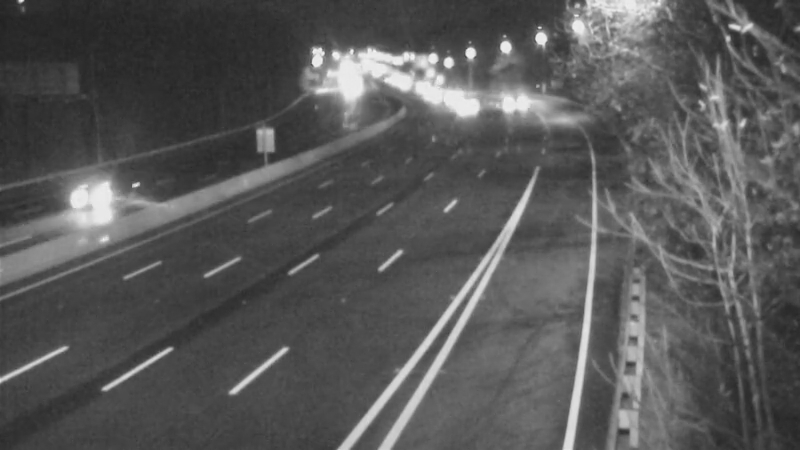vehicle: (50, 159, 130, 239), (400, 70, 450, 120), (424, 70, 474, 120), (442, 84, 492, 134), (483, 72, 533, 122)
